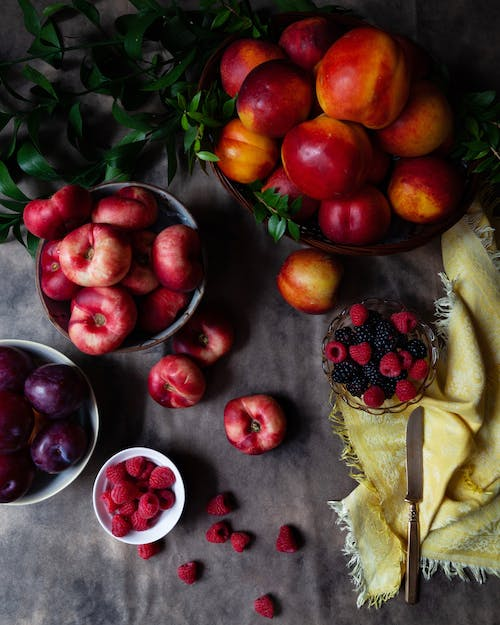knife: (399, 401, 431, 606)
